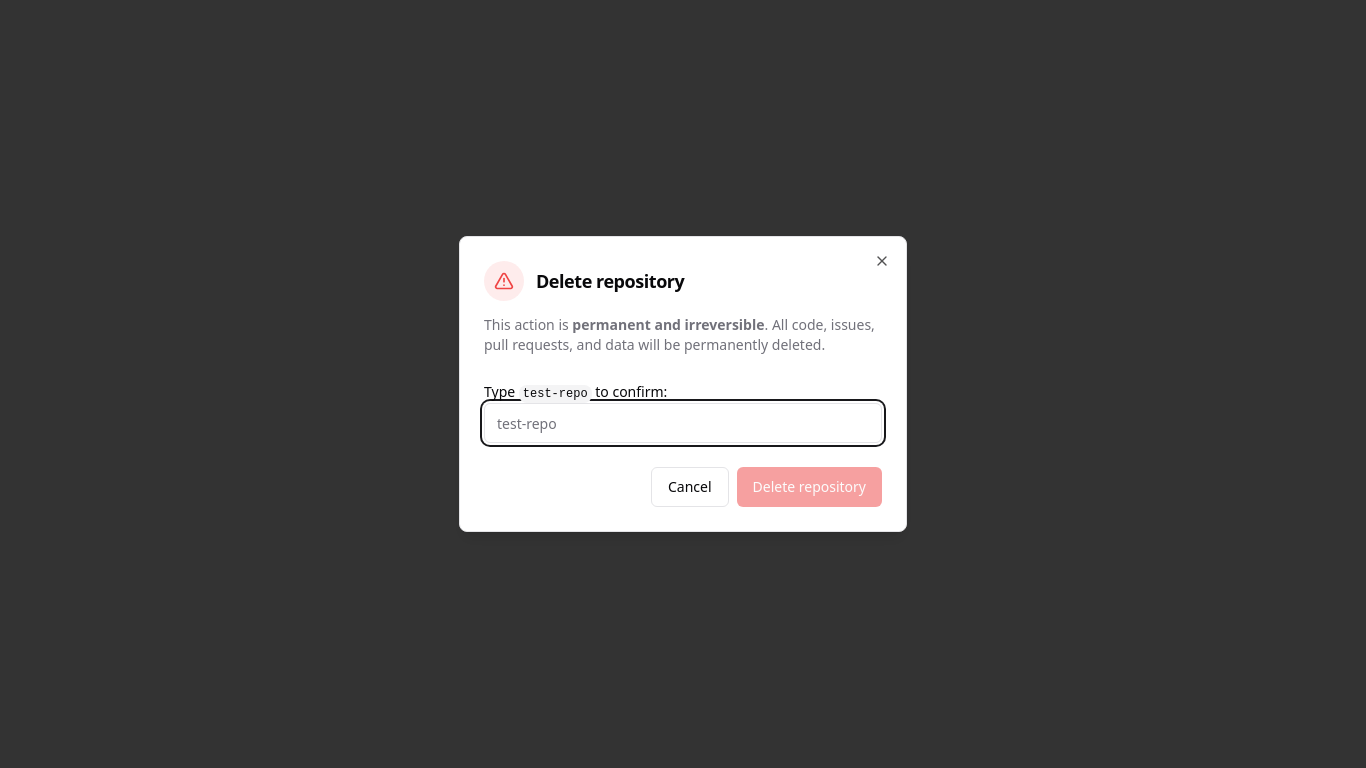
Scenario: DeleteRepoModal › should disable delete button until name matches
Expected: the button "Delete repository" is disabled, top-left (736, 467), bottom-right (882, 507)
Type "wrong-name" into the field with placeholder "test-repo".
click(683, 423); type("wrong-name")  # box top-left (484, 403), bottom-right (882, 443)
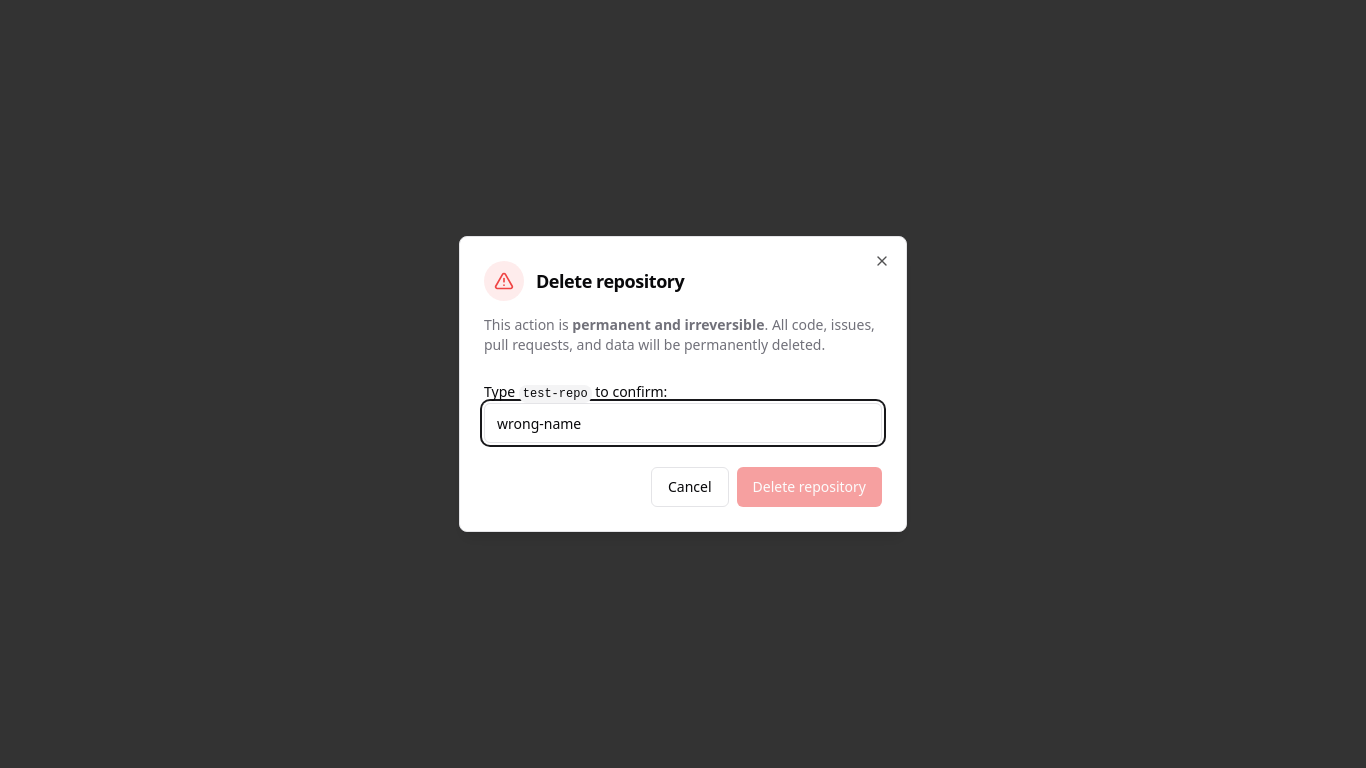
Expected: the button "Delete repository" is disabled, top-left (736, 467), bottom-right (882, 507)
Replace the text in the field with placeholder "test-repo" with "test-repo" at [683, 423], box top-left (484, 403), bottom-right (882, 443)
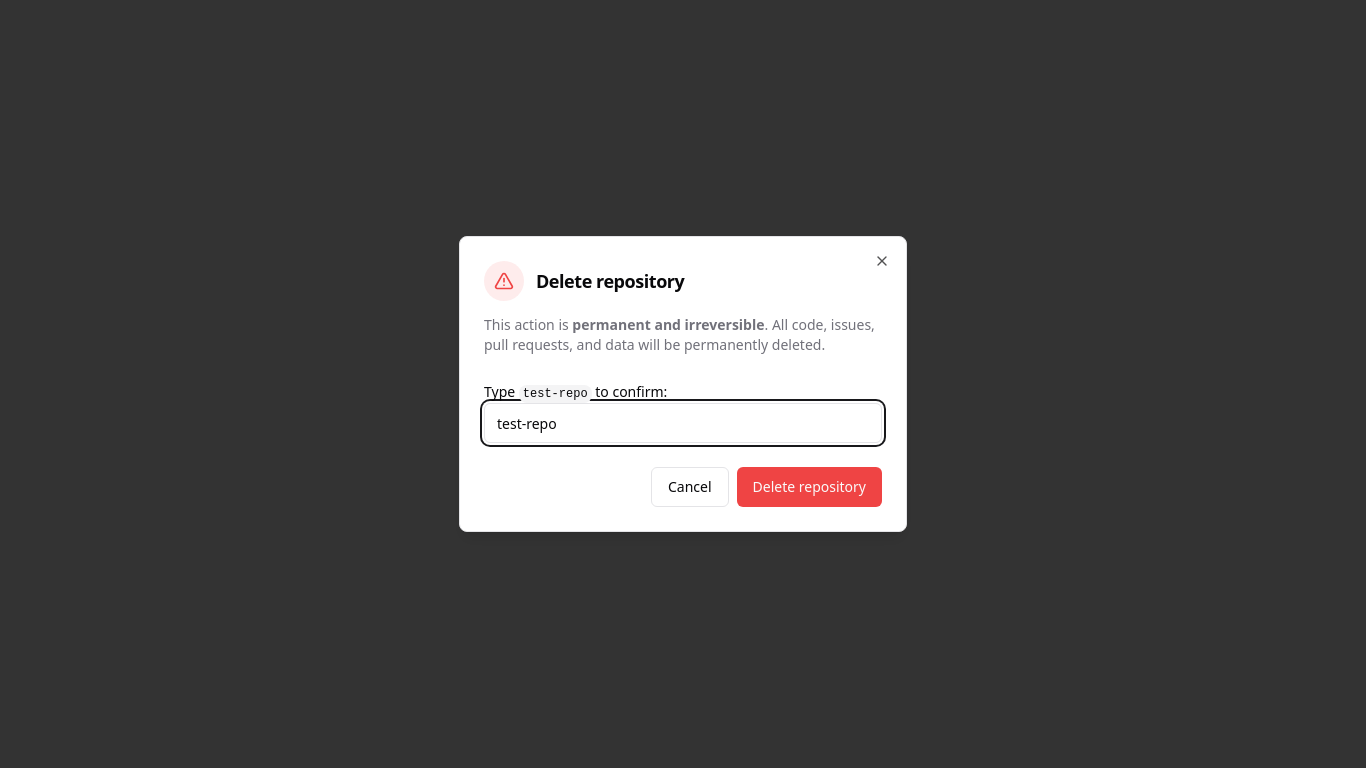
Expected: the button "Delete repository" is enabled, top-left (736, 467), bottom-right (882, 507)
